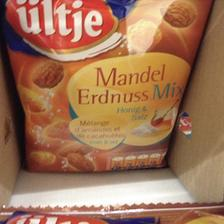Nuss: (1, 0, 213, 172)
